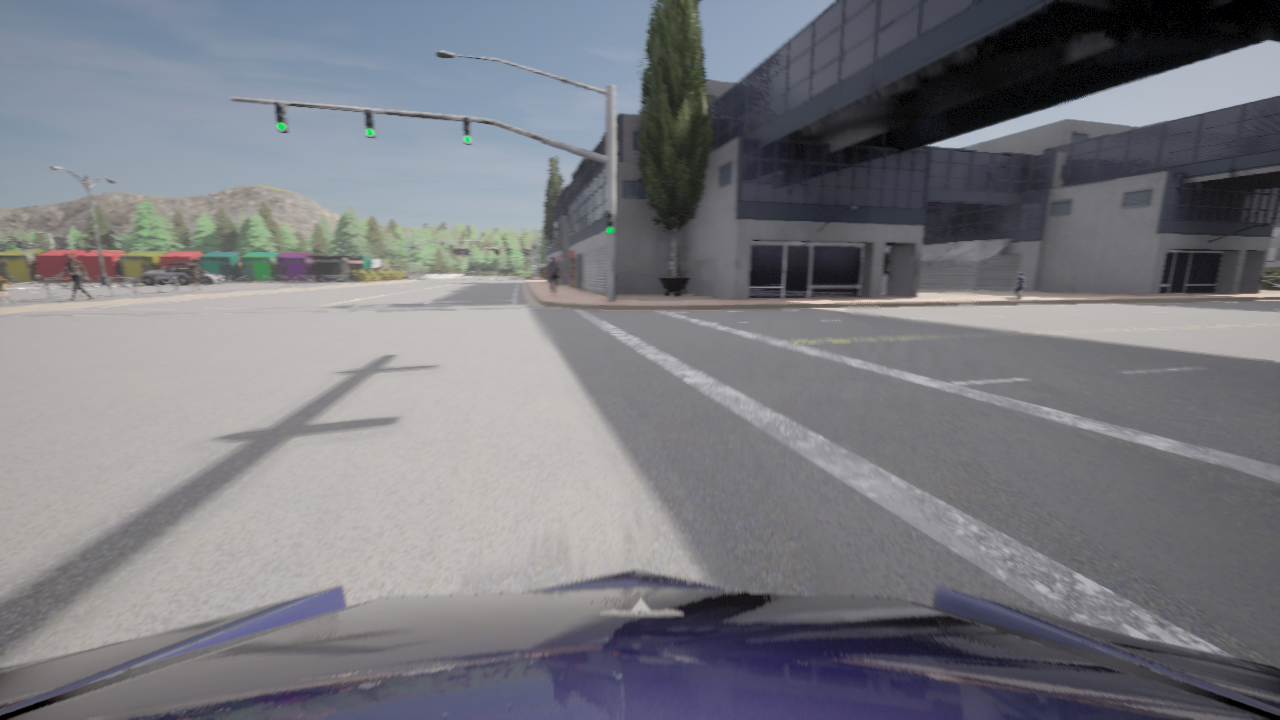cyclist: (0, 569, 1279, 719), (139, 262, 205, 285), (169, 270, 226, 284)
pedestrian: (60, 252, 94, 301), (187, 259, 204, 291), (548, 255, 560, 296)
